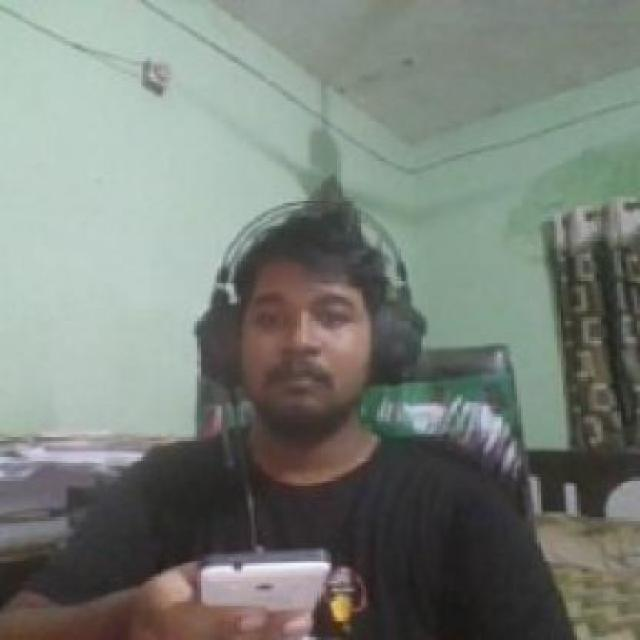Phone: (196, 556, 336, 637)
